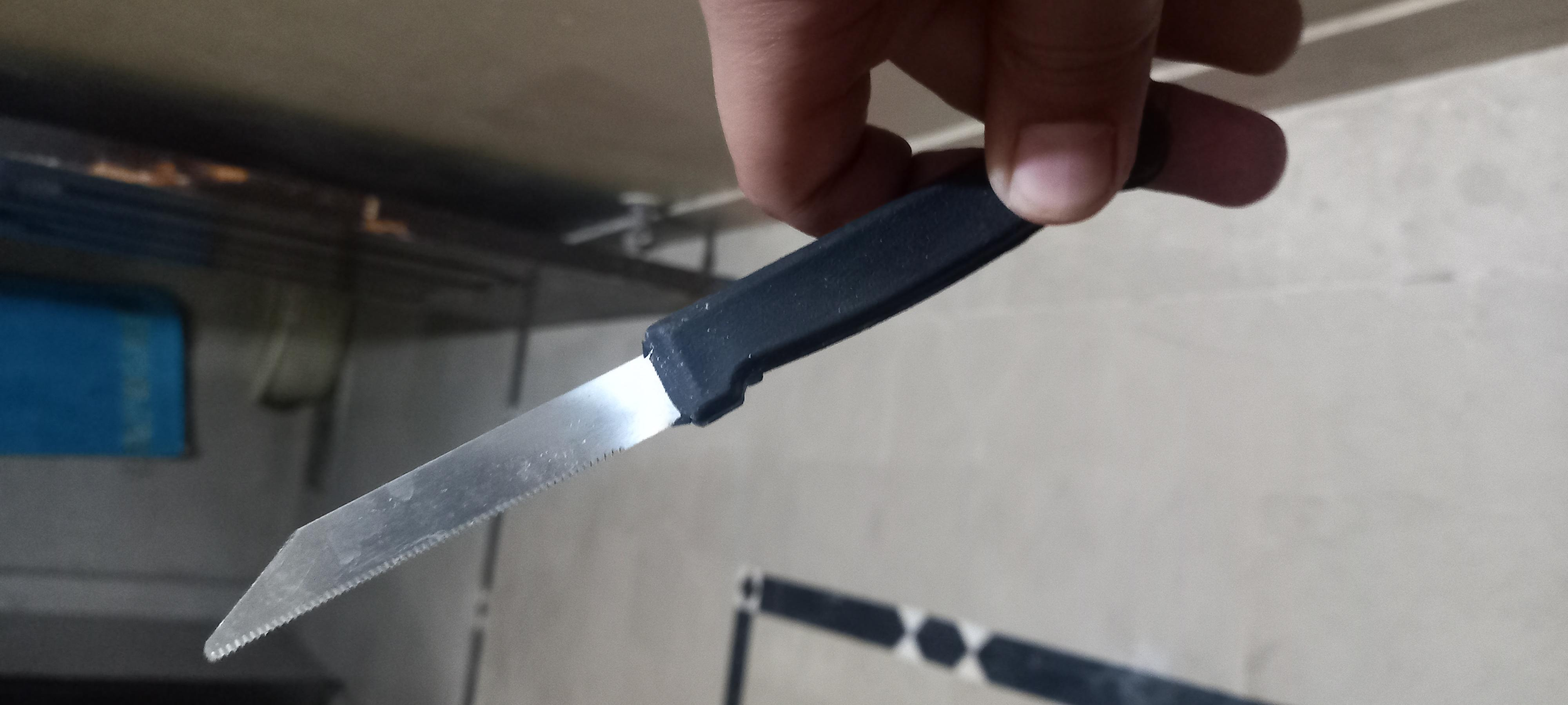knives: (72, 88, 1284, 478)
